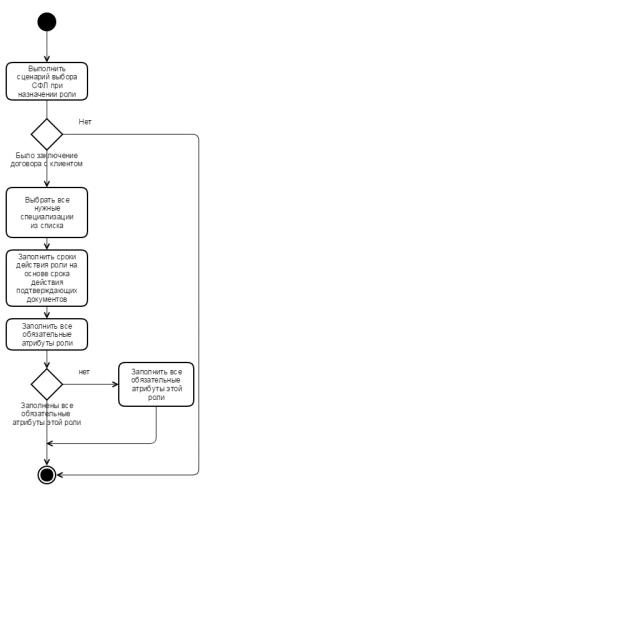arrow: (57, 130, 201, 479), (49, 407, 162, 447), (43, 402, 51, 465), (41, 148, 52, 187), (41, 31, 52, 64), (42, 350, 54, 369), (42, 101, 51, 119), (41, 305, 52, 319), (41, 238, 52, 250)
circle: (37, 464, 58, 485), (38, 13, 56, 31)
diamond: (30, 368, 64, 401), (31, 118, 64, 151)
rectangle: (6, 250, 88, 306), (6, 187, 88, 238), (119, 362, 194, 406), (6, 62, 88, 100), (6, 319, 88, 350)
text_region: (11, 396, 87, 429), (10, 149, 83, 171), (75, 114, 97, 128), (76, 368, 96, 379)
